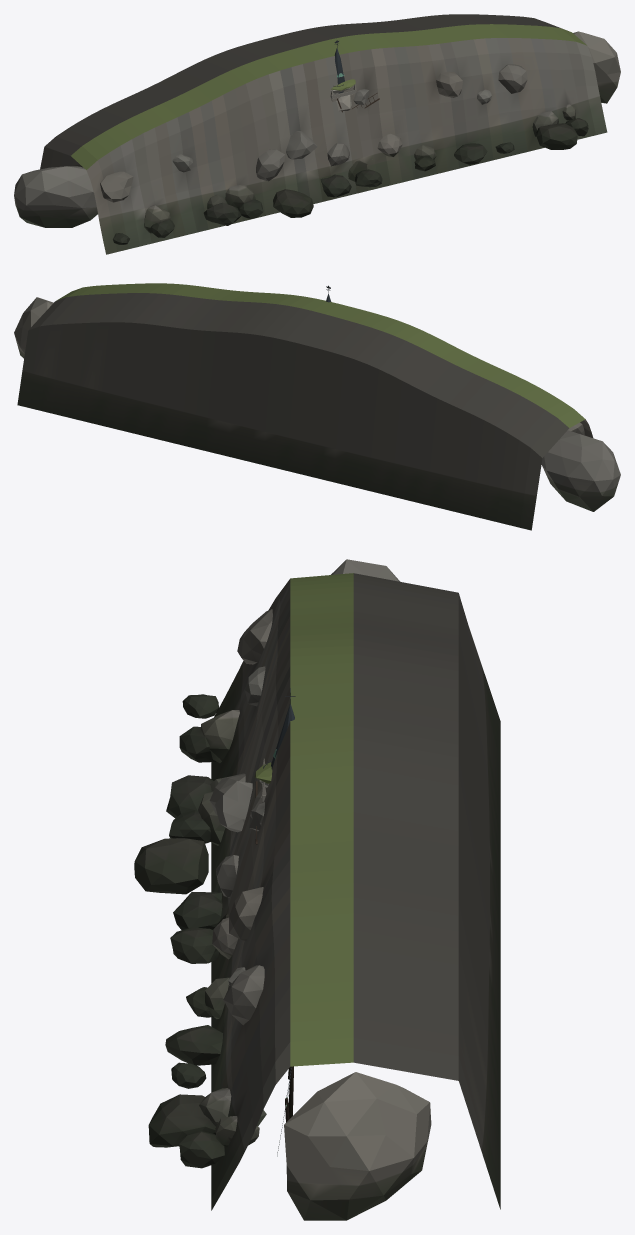
The model's file is scenery.glb.
3 views of the same model, one above another, from view 1: azimuth 30°, elevation 25°; view 2: azimuth 150°, elevation 25°; view 3: azimuth 270°, elevation 25° (orthographic). The views are drawn at different scales.
Parts seen in each view (by area): view 1: SCENE_headland, SCENE_stack, SCENE_spire; view 2: SCENE_headland; view 3: SCENE_headland.
Part boxes in pixels (bbox=[...]): SCENE_headland: bbox=[14, 14, 620, 254]; SCENE_stack: bbox=[331, 79, 385, 129]; SCENE_spire: bbox=[330, 40, 356, 101]; SCENE_headland: bbox=[14, 283, 620, 530]; SCENE_headland: bbox=[134, 559, 500, 1220].
Bounding box in the file's own units: 129 × 31.76 × 34.84.
